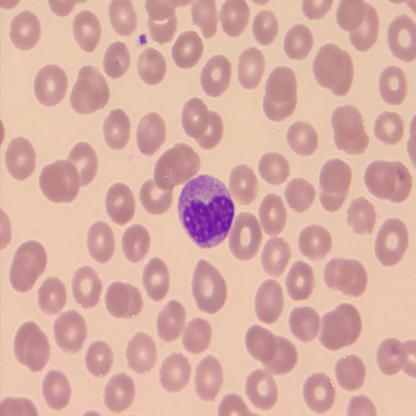Metamyelocyte: (177, 170, 236, 253)
